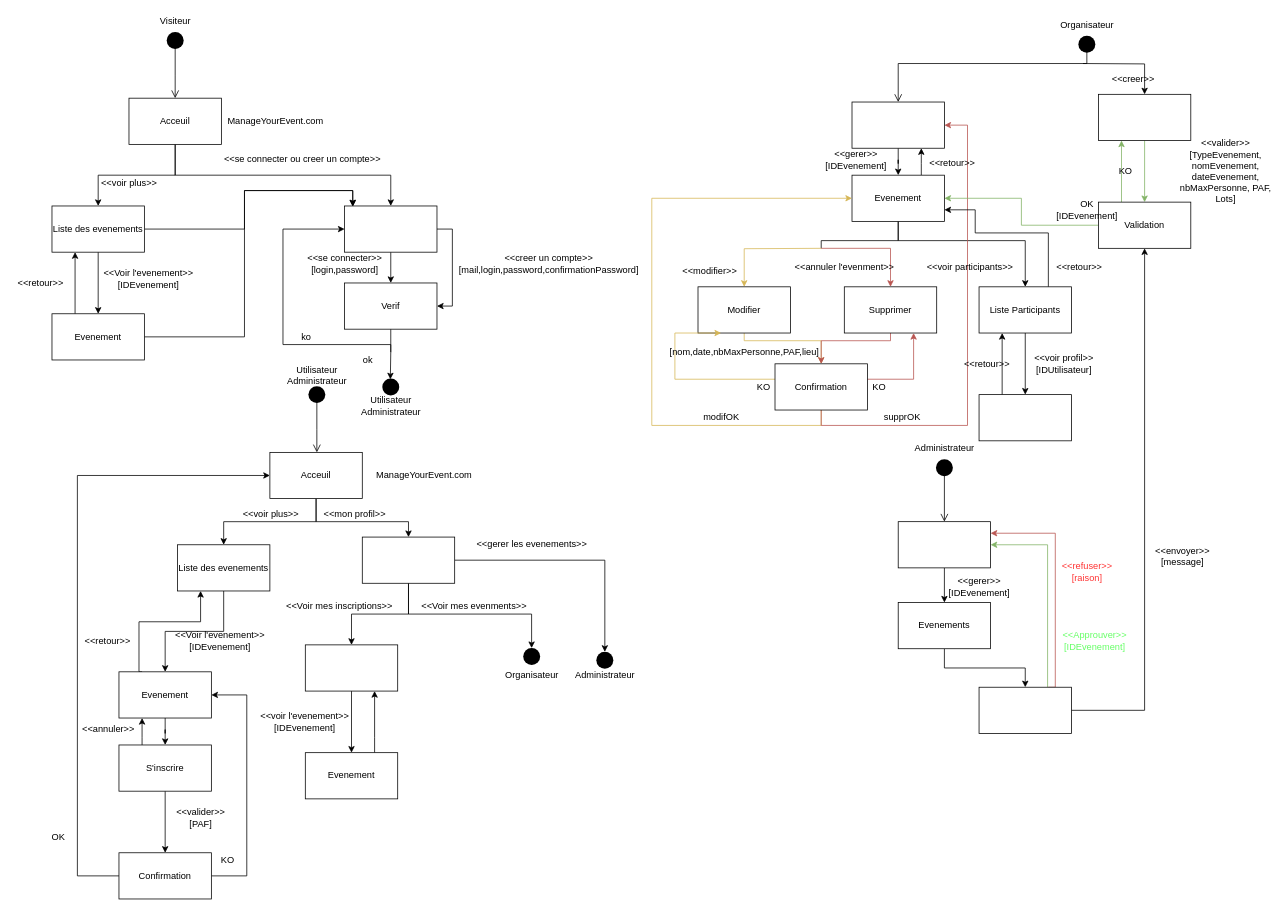
Some shapes in this 1288 by 912 pixel diagram are drawn without their labels. The shapes that lost their labels are listed below. From the top down, each one's centre as x and y in pixels, then its label:
point (897, 124): Evenements organiser
point (1144, 117): Creer evenement
point (390, 228): Login/Register
point (1024, 417): Profil Utilisateur
point (408, 559): Profil
point (944, 544): Liste nouveau evenement (attente de validation)
point (351, 667): Evenements inscrit
point (1024, 709): Modifier/Approuver
